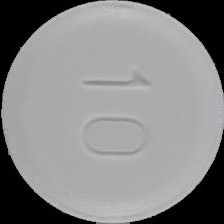61786-334: (0, 0, 224, 224)
